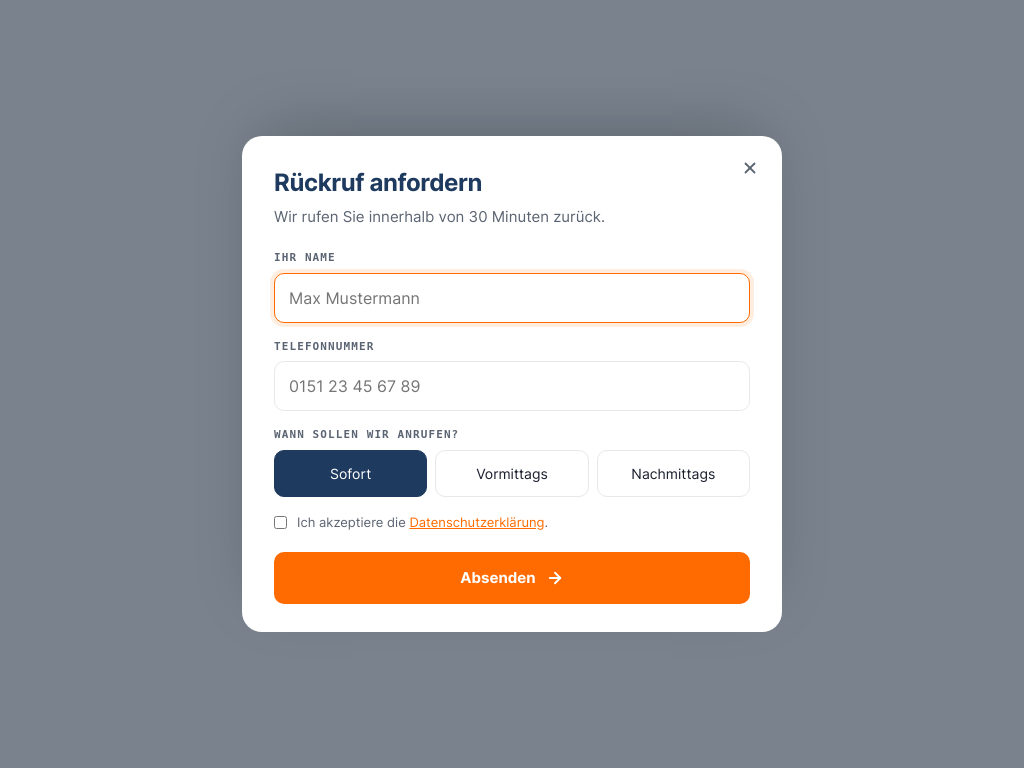
Test case: ContactFlowSheet — callback form › shows a German error and stays on the form when the backend fails
Type "A B" into the field with placeholder "Max Mustermann" at (512, 298), box [274,273,750,323]
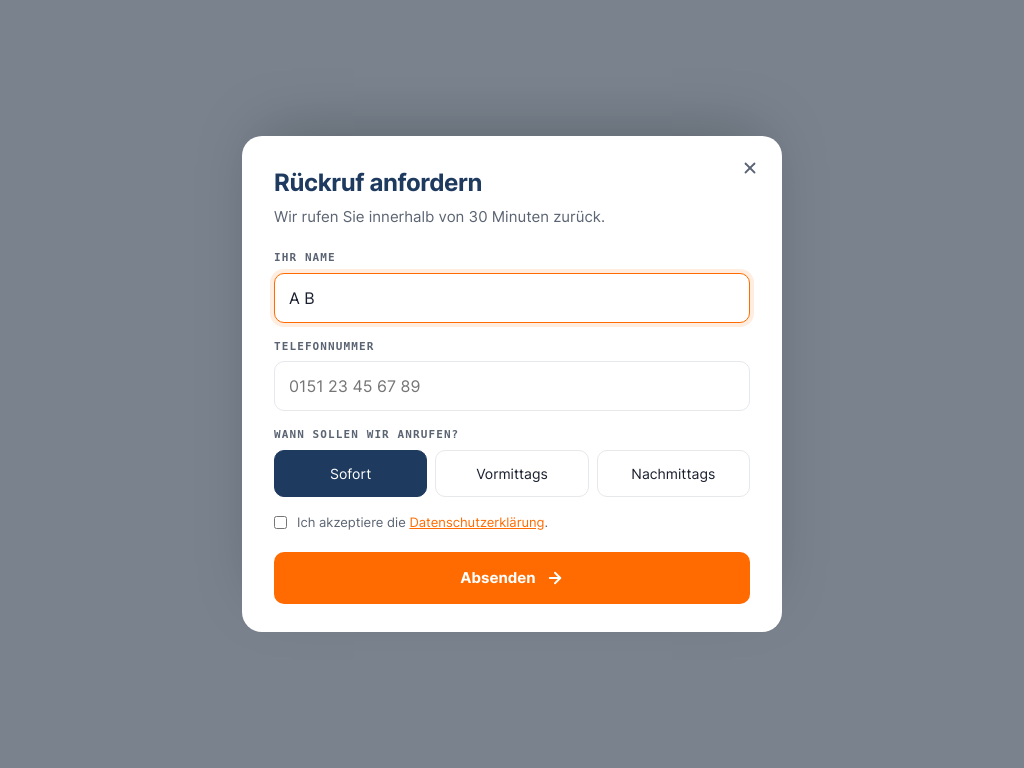
Type "1" into the field with placeholder "0151 23 45 67 89" at (512, 386), box [274,361,750,411]
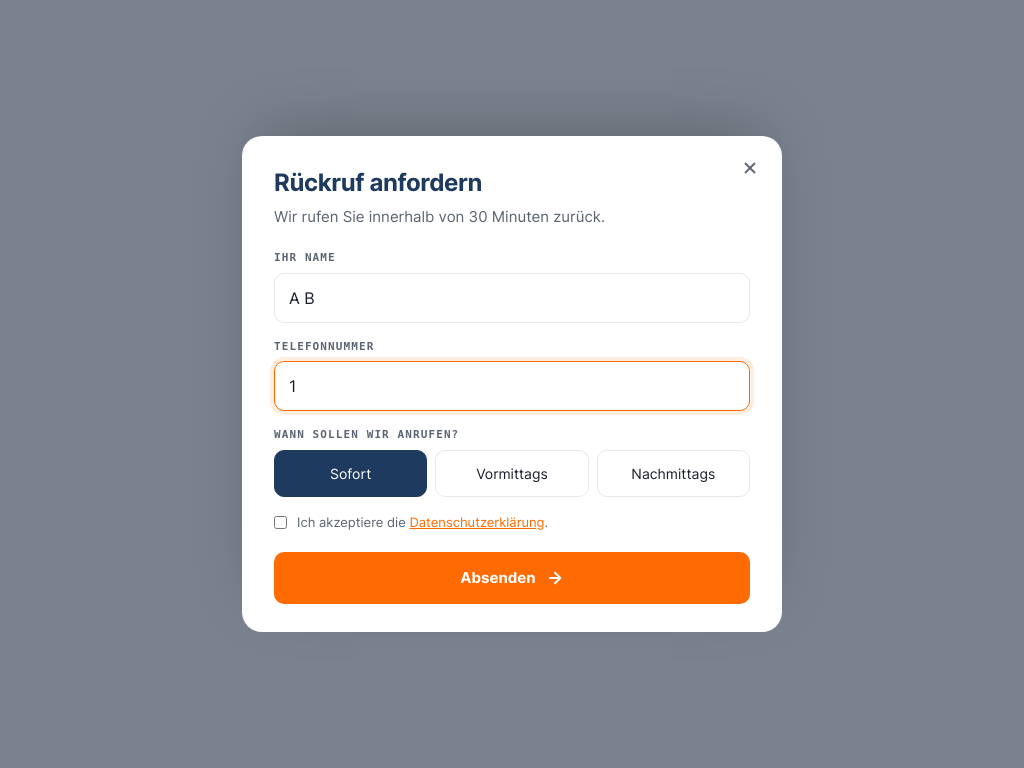
Click the checkbox at (280, 522), box [274,516,287,529]
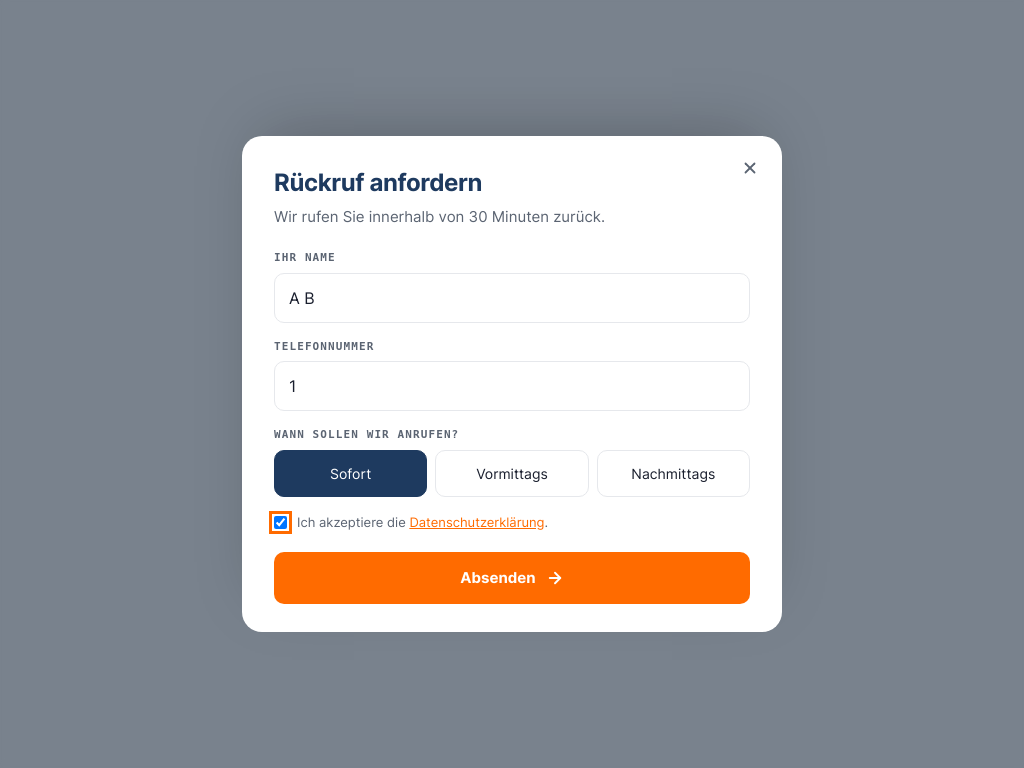
Click the button "Absenden" at (512, 578), box [274,552,750,604]
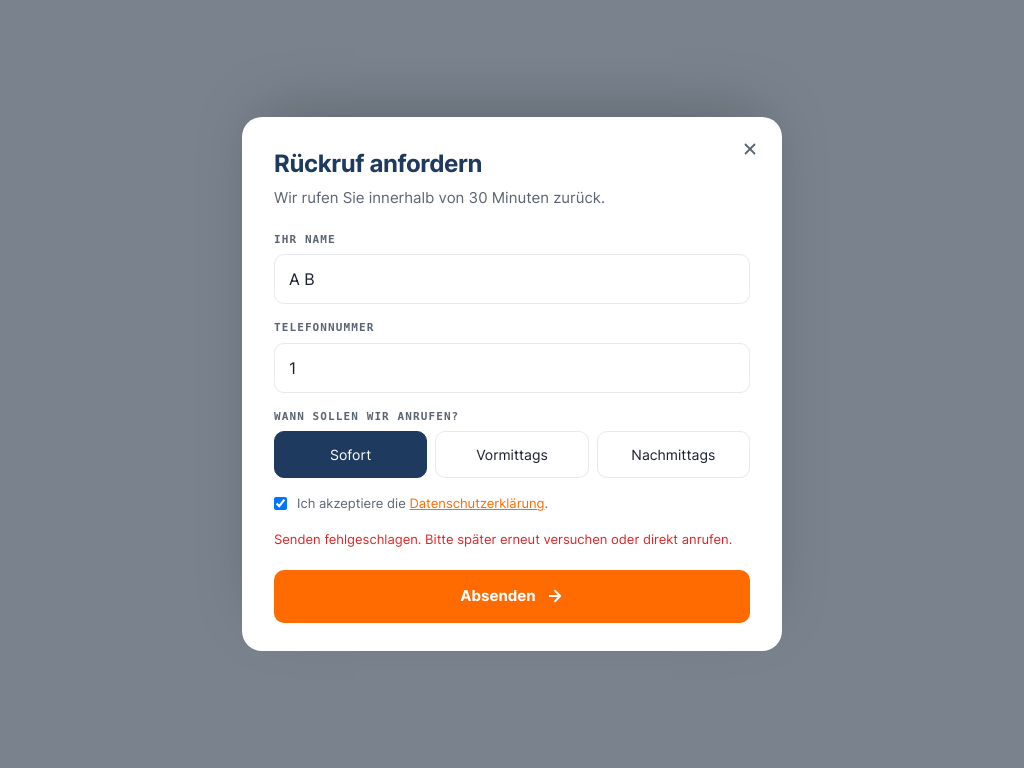
Expected: the button "Absenden" is shown, [274,570,750,623]
Expected: the message reads "Senden fehlgeschlagen. Bitte später erneut versuchen oder direkt anrufen.", [274,531,732,547]
